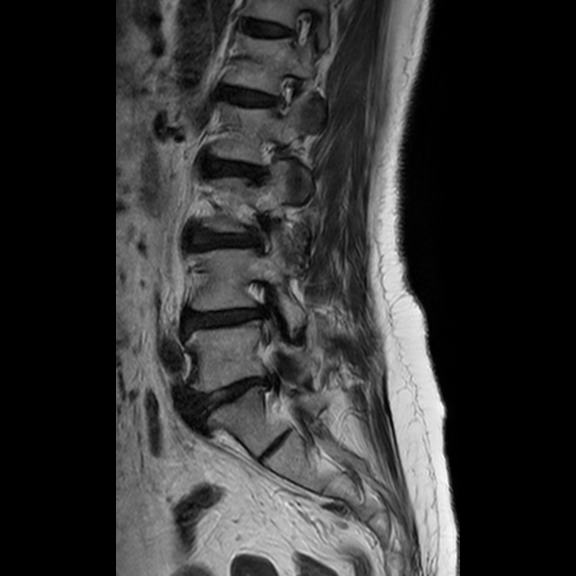LFS0: (265, 66, 307, 123)
